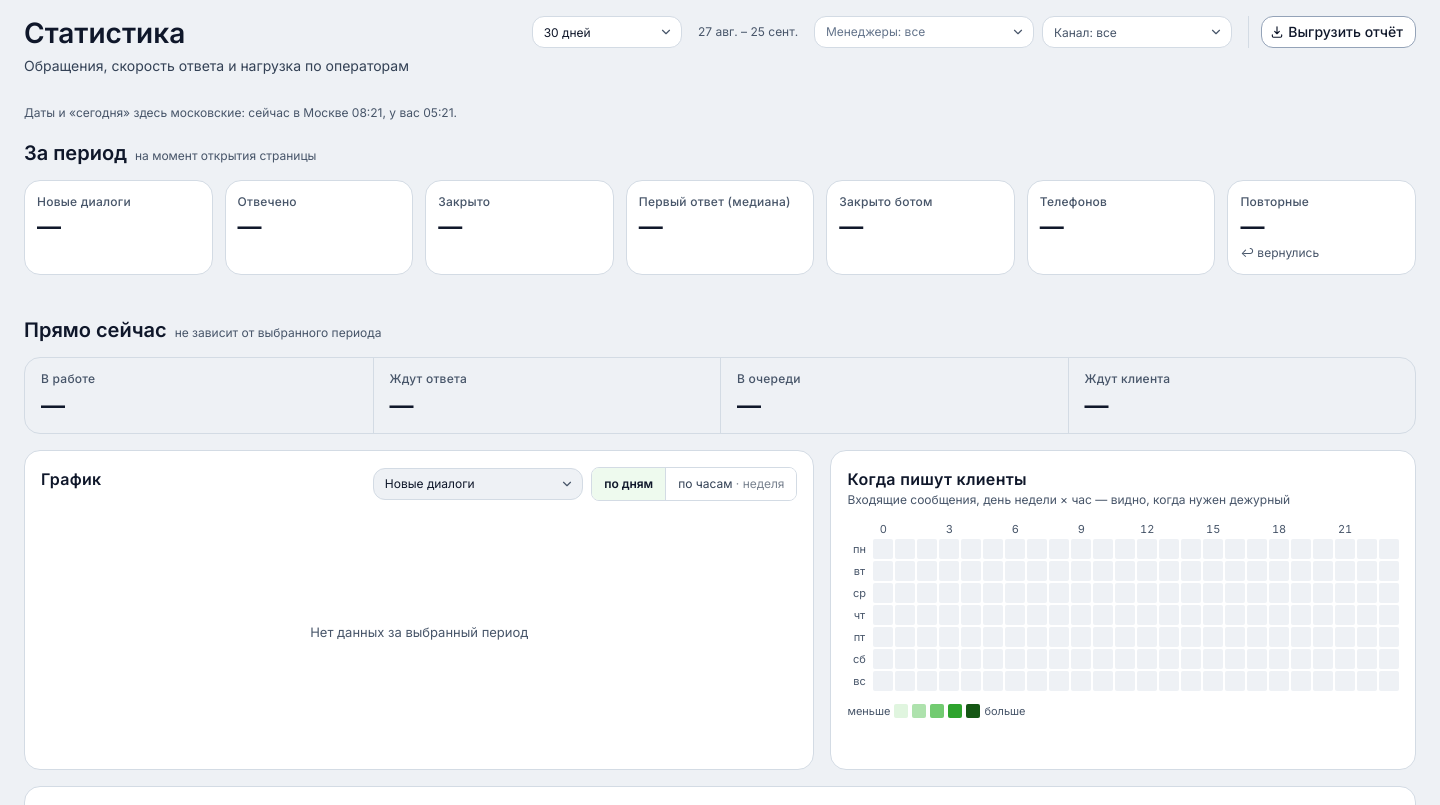
Scenario: Статистика: пункт «Произвольный» › выбор «Произвольного» показывает календарь, а не проглатывает нажатие
This screenshot has width=1440, height=805.
Click the field named "Период". click: coordinates (607, 32)
box: left=532, top=16, right=682, bottom=48
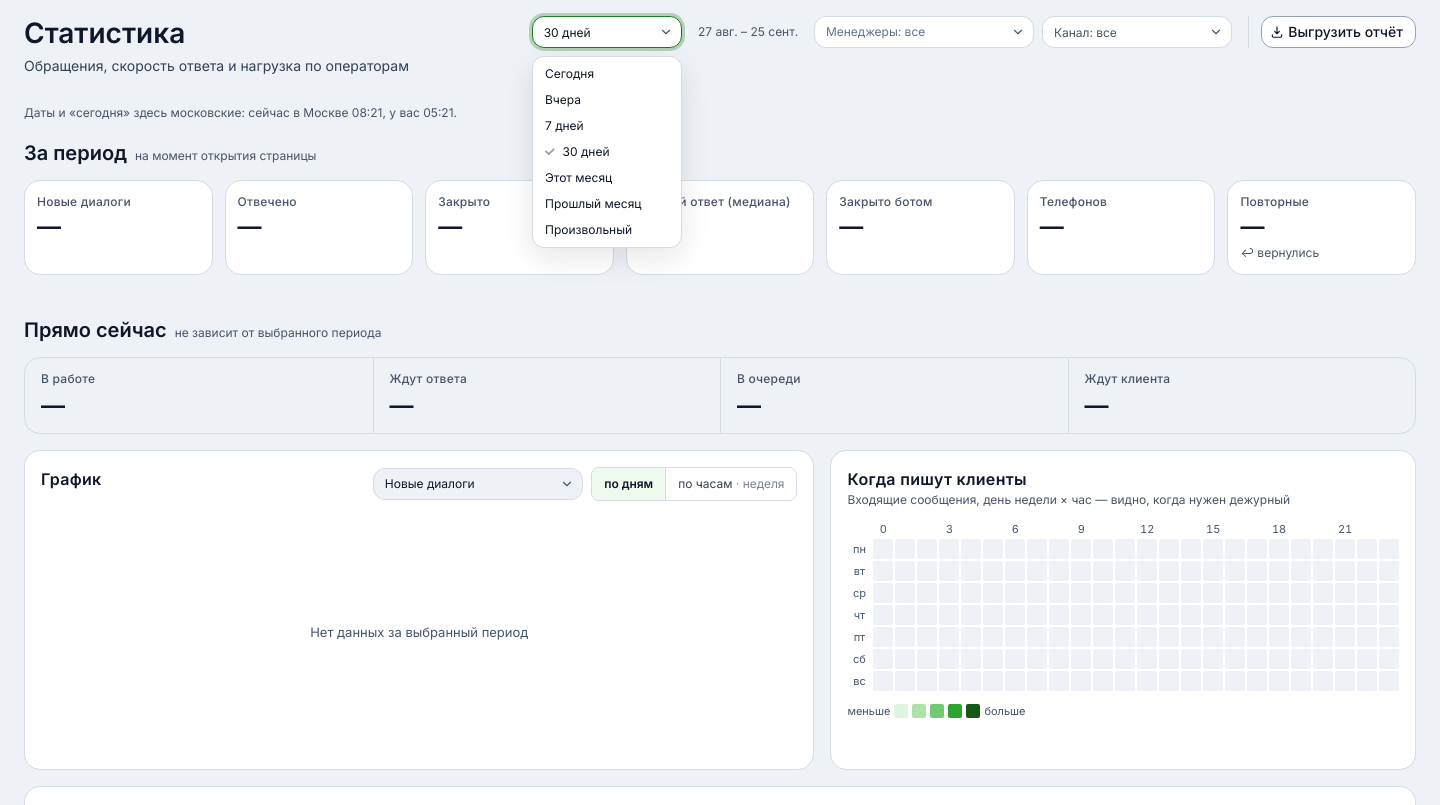
Click the option "Произвольный". click: coordinates (589, 230)
box: left=545, top=222, right=632, bottom=237
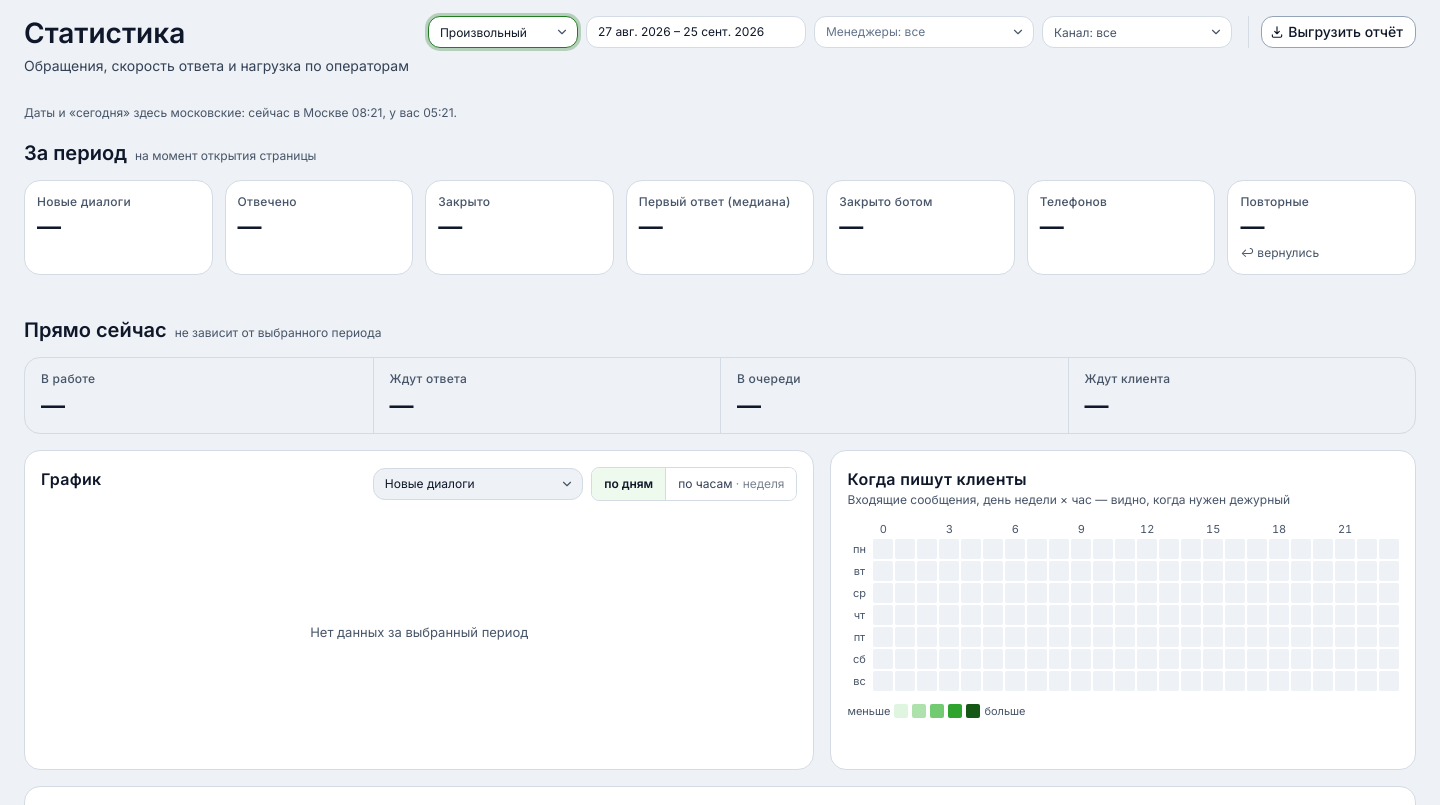
Expected: the button with aria-label "Произвольный период" is shown, left=586, top=16, right=806, bottom=48
